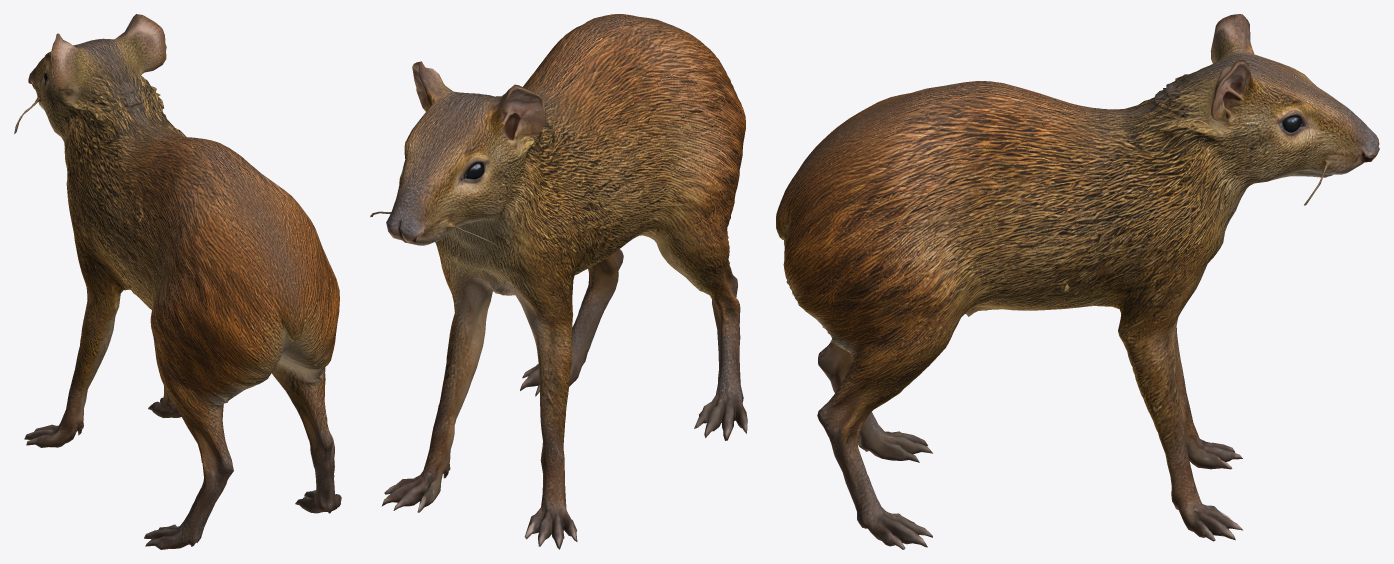
File: agouti-tripo-h31.glb
3 views of the same model, side by side, from view 1: azimuth 30°, elevation 25°; view 2: azimuth 150°, elevation 25°; view 3: azimuth 270°, elevation 25° (orthographic). The views are drawn at different scales.
Visible parts, largest first — view 1: tripo_node_f06f55e1-8104-4c94-a7a1-bff5f7551842; view 2: tripo_node_f06f55e1-8104-4c94-a7a1-bff5f7551842; view 3: tripo_node_f06f55e1-8104-4c94-a7a1-bff5f7551842.
Boxes of the visible parts, x1,y1,x2,y2 form: tripo_node_f06f55e1-8104-4c94-a7a1-bff5f7551842: [14, 14, 341, 549]; tripo_node_f06f55e1-8104-4c94-a7a1-bff5f7551842: [370, 14, 747, 549]; tripo_node_f06f55e1-8104-4c94-a7a1-bff5f7551842: [776, 14, 1379, 549].
Size of the model in its own units: 0.4248 by 0.8236 by 0.9792.
Materials: 1 (1 with a texture image).
